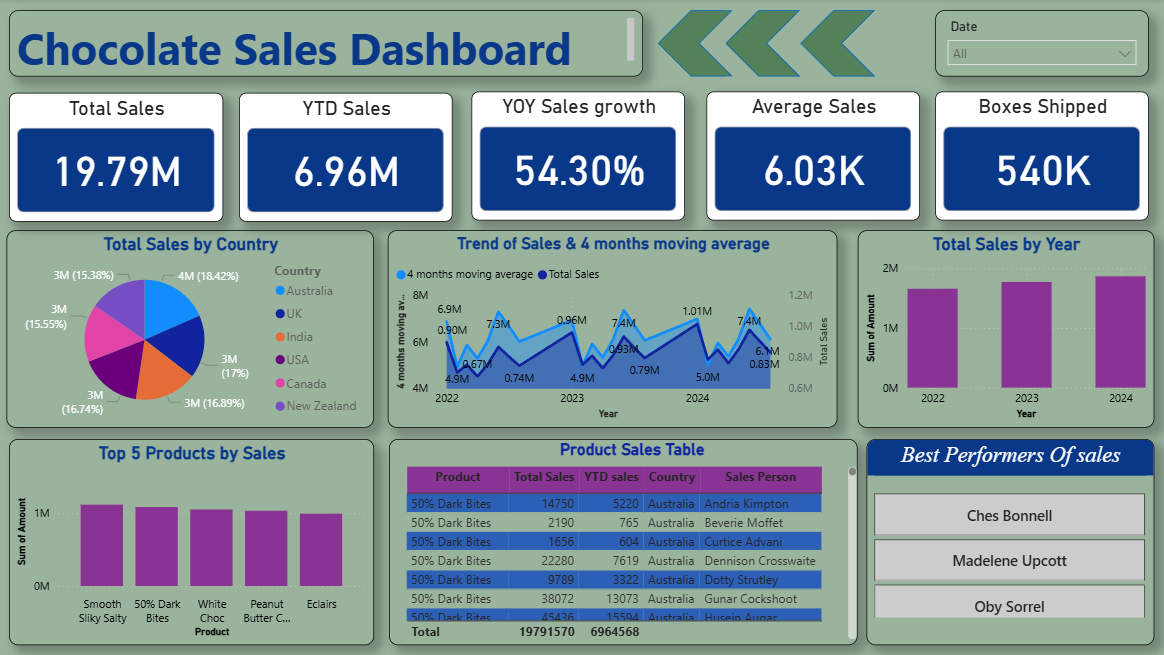

This screenshot's page, from the dashboard's own definition file:
{"tool":"powerbi","page":{"name":"Page 1","canvas":[1280,720],"ordinal":0},"visuals":[{"type":"pieChart","title":"Total Sales by Country","fields":{"Category":["cleaned_chocolate_sales.Country"],"Y":["Sum(cleaned_chocolate_sales.Amount)"]},"box":[8.2,253.9,403.4,216.8],"z":0},{"type":"clusteredColumnChart","title":"Top 5 Products by Sales","fields":{"Category":["cleaned_chocolate_sales.Product"],"Y":["Sum(cleaned_chocolate_sales.Amount)"]},"box":[11,483,400.7,226.4],"z":1000},{"type":"cardVisual","title":"Total Sales","fields":{"Data":["Added measures.Total Sales"]},"box":[11,102.9,235,141.3],"z":2000},{"type":"cardVisual","title":"YTD Sales","fields":{"Data":["Added measures.YTD sales"]},"box":[263.5,102.9,234.6,141.3],"z":3000},{"type":"cardVisual","title":"YOY Sales growth","fields":{"Data":["Added measures.YOY Sales Growth"]},"box":[518.7,101.5,234.6,141.3],"z":4000},{"type":"cardVisual","title":"Average Sales","fields":{"Data":["Added measures.Average Sales"]},"box":[776.7,101.5,234.6,141.3],"z":5000},{"type":"textbox","box":[11,12.3,695.7,72.7],"z":6000},{"type":"lineChart","title":"Trend of Sales & 4 months moving average ","fields":{"Y":["Added measures.4 months moving average"],"Y2":["Added measures.Total Sales"],"Category":["cleaned_chocolate_sales.Date.Variation.Date Hierarchy.Year","cleaned_chocolate_sales.Date.Variation.Date Hierarchy.Quarter","cleaned_chocolate_sales.Date.Variation.Date Hierarchy.Month"]},"box":[426.8,253.9,494,216.8],"z":7000},{"type":"clusteredColumnChart","title":"Total Sales by Year","fields":{"Y":["Sum(cleaned_chocolate_sales.Amount)"],"Category":["cleaned_chocolate_sales.Date.Variation.Date Hierarchy.Year"]},"box":[942.7,253.9,325.2,216.8],"z":8000},{"type":"cardVisual","title":"Boxes Shipped","fields":{"Data":["Sum(cleaned_chocolate_sales.Boxes Shipped)"]},"box":[1027.8,101.5,234.6,141.3],"z":9000},{"type":"tableEx","title":"Product Sales Table","fields":{"Values":["cleaned_chocolate_sales.Product","Added measures.Total Sales","Added measures.YTD sales","cleaned_chocolate_sales.Country","cleaned_chocolate_sales.Sales Person"]},"box":[428.1,483,514.6,226.4],"z":10000},{"type":"slicer","fields":{"Values":["cleaned_chocolate_sales.Date"]},"box":[1027.8,12.3,234.6,72.7],"z":11000},{"type":"cardVisual","title":"Best Performers Of sales ","fields":{"Rows":["cleaned_chocolate_sales.Sales Person"]},"box":[952.3,483,315.6,226.4],"z":12000},{"type":"shape","box":[723.2,12.3,82.3,72.7],"z":13000},{"type":"shape","box":[797.3,12.3,82.3,72.7],"z":14000},{"type":"shape","box":[879.6,12.3,82.3,72.7],"z":15000}]}

Visuals, with their boxes in screenshot pixels (x1, y1, x2, y2), scaled from the page's 1280x720 canvas onto the 1164x655 screenshot:
"Total Sales by Country" pieChart: bbox(7, 231, 374, 428)
"Top 5 Products by Sales" clusteredColumnChart: bbox(10, 439, 374, 645)
"Total Sales" cardVisual: bbox(10, 94, 224, 222)
"YTD Sales" cardVisual: bbox(240, 94, 453, 222)
"YOY Sales growth" cardVisual: bbox(472, 92, 685, 221)
"Average Sales" cardVisual: bbox(706, 92, 920, 221)
textbox: bbox(10, 11, 643, 77)
"Trend of Sales & 4 months moving average " lineChart: bbox(388, 231, 837, 428)
"Total Sales by Year" clusteredColumnChart: bbox(857, 231, 1153, 428)
"Boxes Shipped" cardVisual: bbox(935, 92, 1148, 221)
"Product Sales Table" tableEx: bbox(389, 439, 857, 645)
slicer - cleaned_chocolate_sales.Date: bbox(935, 11, 1148, 77)
"Best Performers Of sales " cardVisual: bbox(866, 439, 1153, 645)
shape: bbox(658, 11, 733, 77)
shape: bbox(725, 11, 800, 77)
shape: bbox(800, 11, 875, 77)
